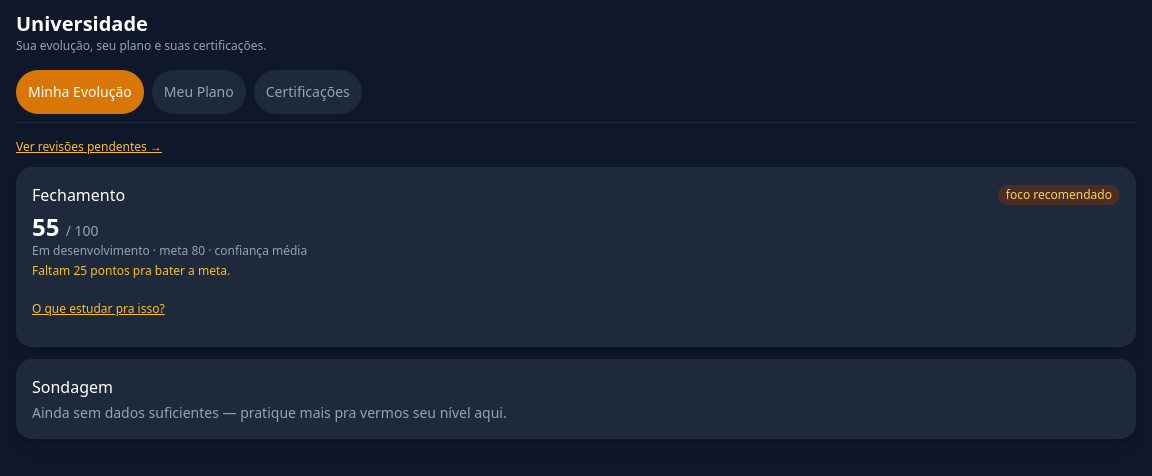
Test: Universidade — o que estudar pra fechar o gap › IA indisponível não quebra a tela — a matriz continua legível
Expected: the text "Fechamento" is shown, 32,183 -> 125,207
Click the button "O que estudar pra isso?". click: {"x": 98, "y": 309}
box: 32,287 -> 165,331
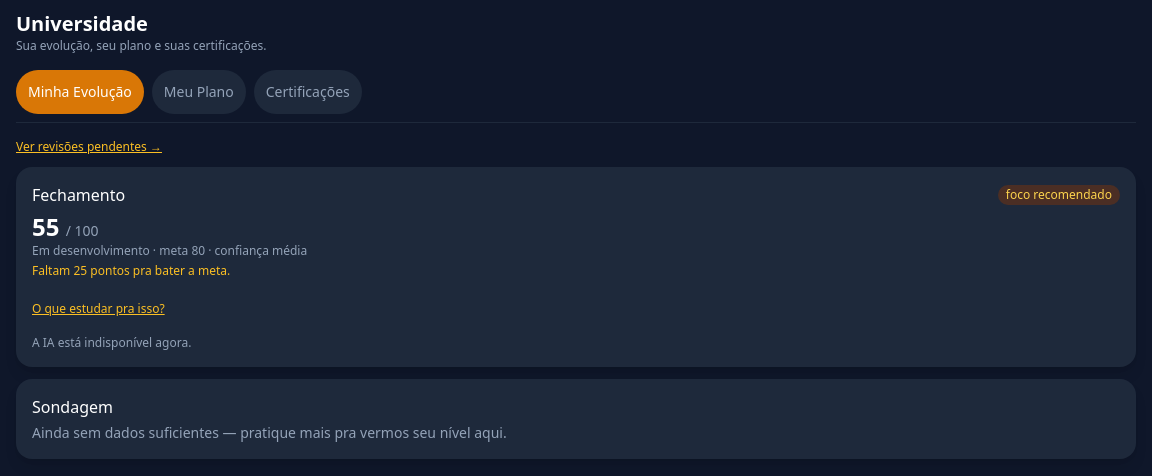
Expected: the text "Fechamento" is shown, 32,183 -> 125,207
Expected: the text "A IA está indisponível agora." is shown, 32,334 -> 191,351
